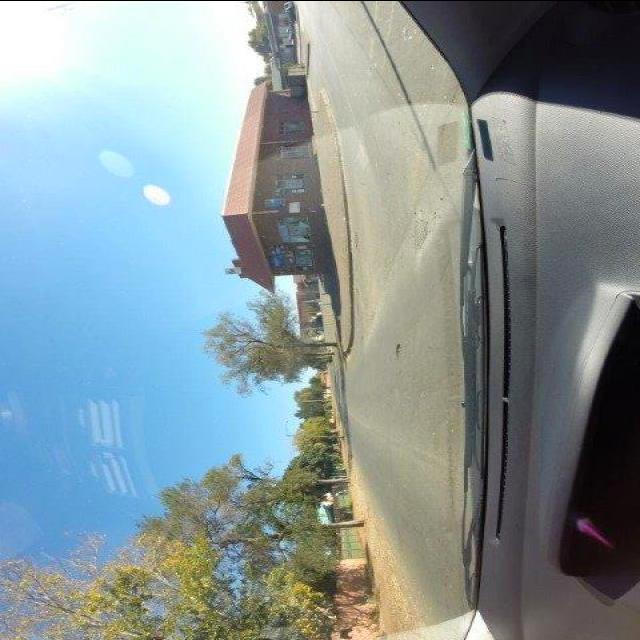jalan retak: (400, 200, 441, 262)
lubang: (389, 337, 404, 367)
